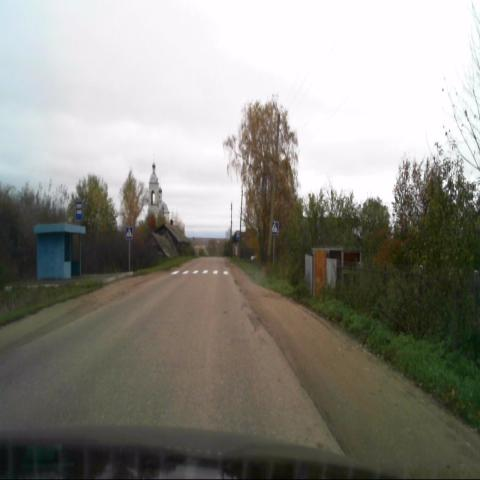5_16: (75, 201, 83, 221)
5_19_1: (271, 221, 278, 235), (126, 227, 132, 240)
